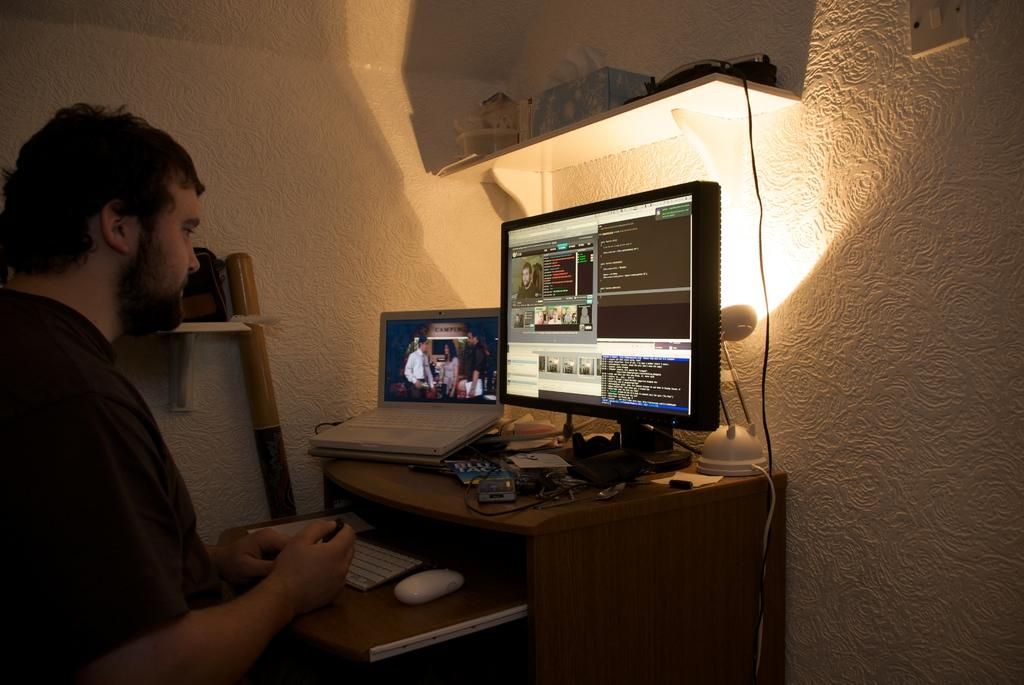Computer-keyboard: (317, 538, 420, 594), (340, 405, 490, 434)
Computer-monitor: (475, 192, 727, 497)
